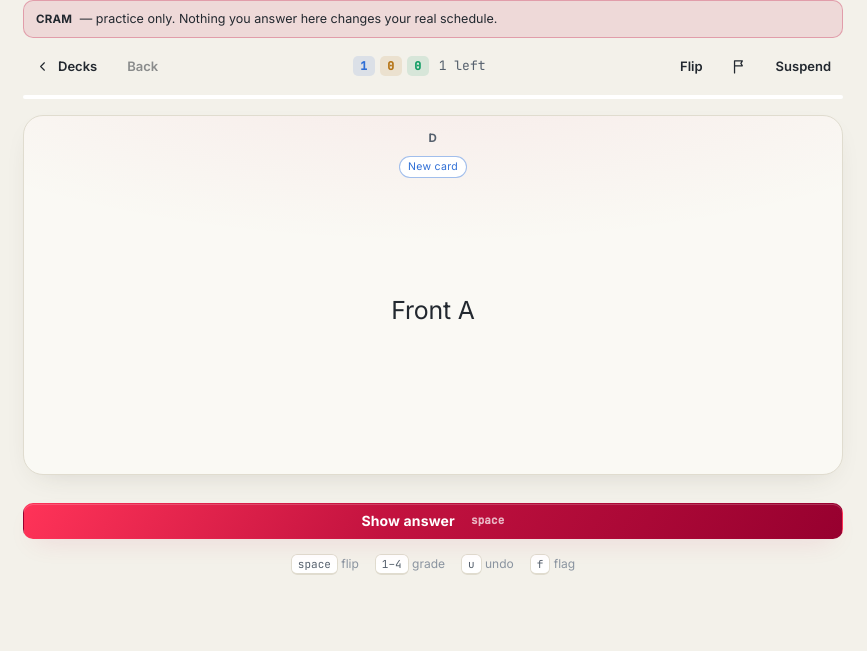
Scenario: cram mode writes nothing › retires a card answered well, and finishes
Click the button "Show answer space". click: (433, 521)
box: x1=23 y1=503 x2=843 y2=539
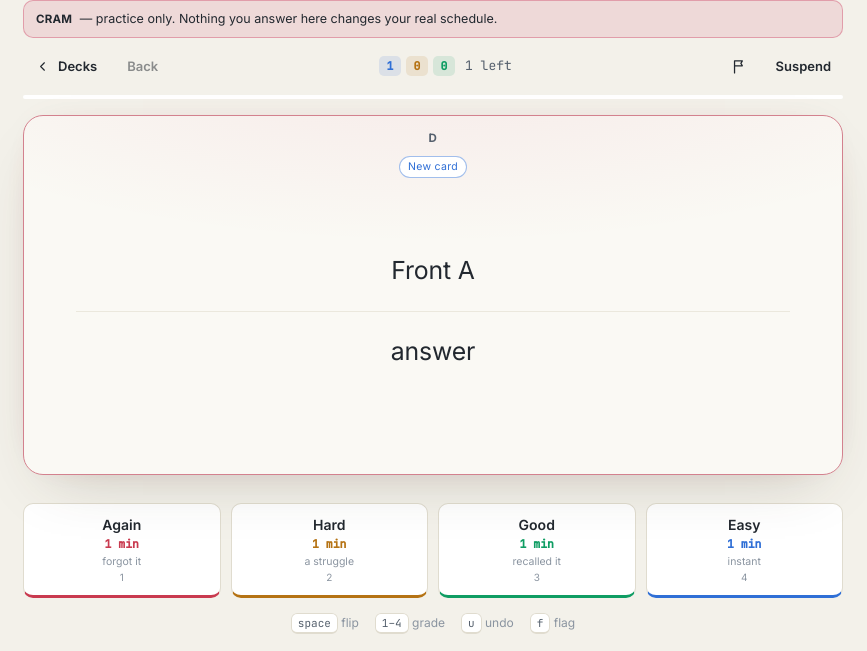
Click the text "Easy". click: (744, 524)
box: x1=728 y1=516 x2=760 y2=533
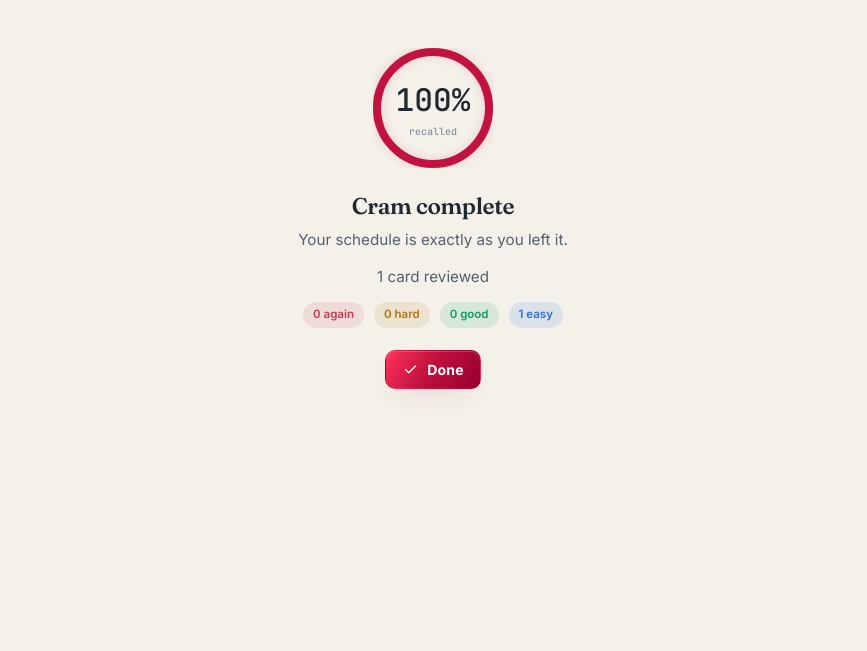
Expected: the heading "Cram complete" is shown, x1=352 y1=192 x2=514 y2=220
Expected: the text "Your schedule is exactly as you left it." is shown, x1=298 y1=230 x2=568 y2=249
